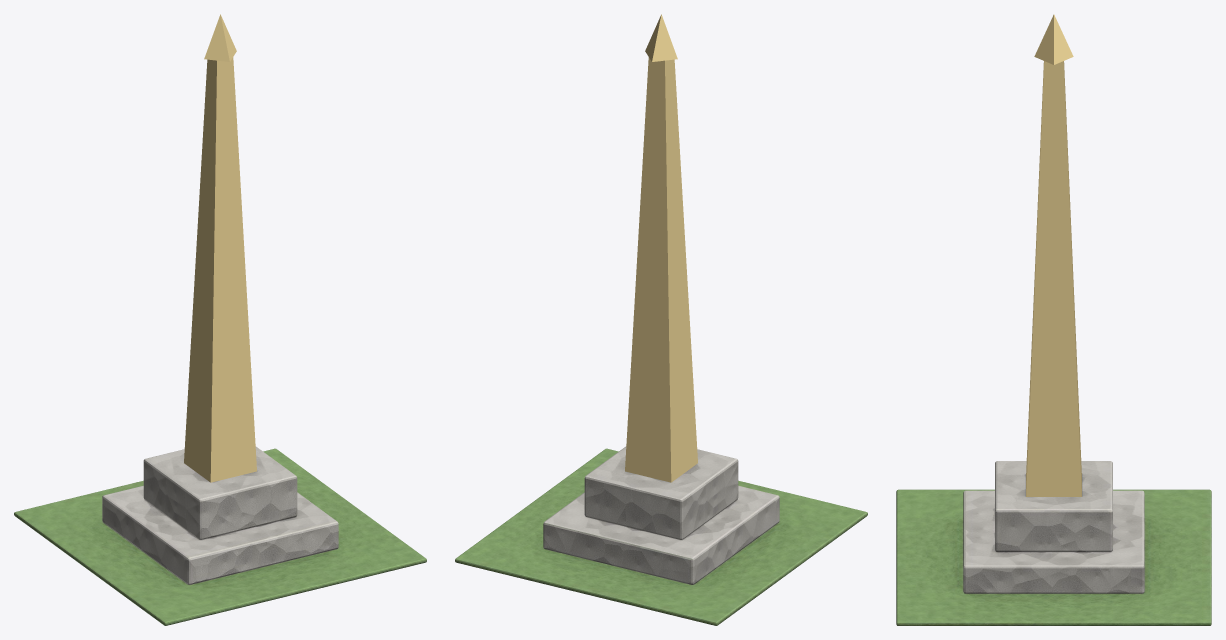
Rendered from wahrzeichen.glb.
The picture shows the model from 3 angles, left to right: view 1: azimuth 30°, elevation 25°; view 2: azimuth 150°, elevation 25°; view 3: azimuth 270°, elevation 25°; orthographic projection. The views are drawn at different scales.
Visible parts, largest first — view 1: wahrzeichen, wahrzeichen_details; view 2: wahrzeichen, wahrzeichen_details; view 3: wahrzeichen, wahrzeichen_details.
Boxes of the visible parts, x1,y1,x2,y2 form: wahrzeichen: (14, 446, 426, 625); wahrzeichen_details: (184, 14, 256, 482); wahrzeichen: (455, 446, 867, 625); wahrzeichen_details: (625, 14, 697, 482); wahrzeichen: (896, 461, 1211, 625); wahrzeichen_details: (1026, 14, 1081, 496).
Size of the model in its own units: 0.8 by 1.53 by 0.8.
Materials: 2 (1 with a texture image).
